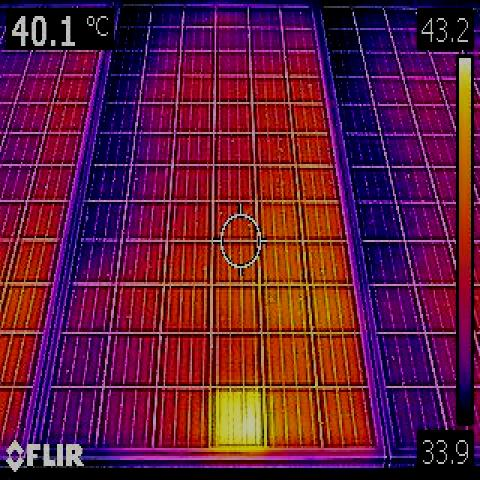fault: (218, 387, 261, 444)
